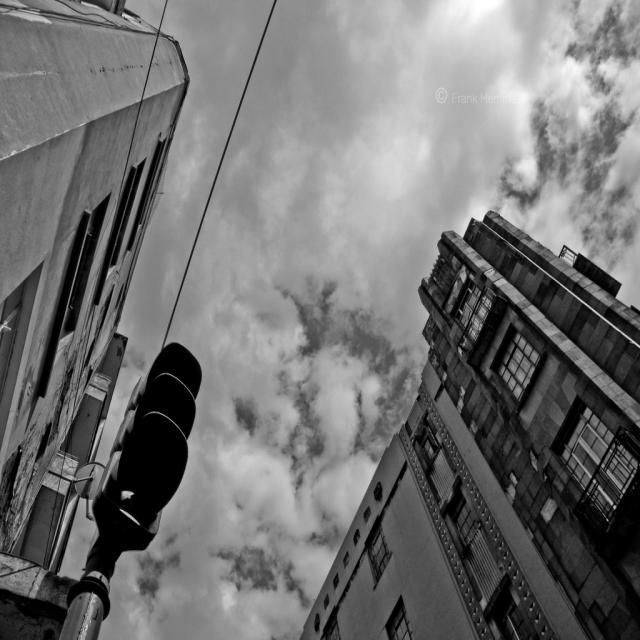traffic light: (93, 340, 203, 554)
